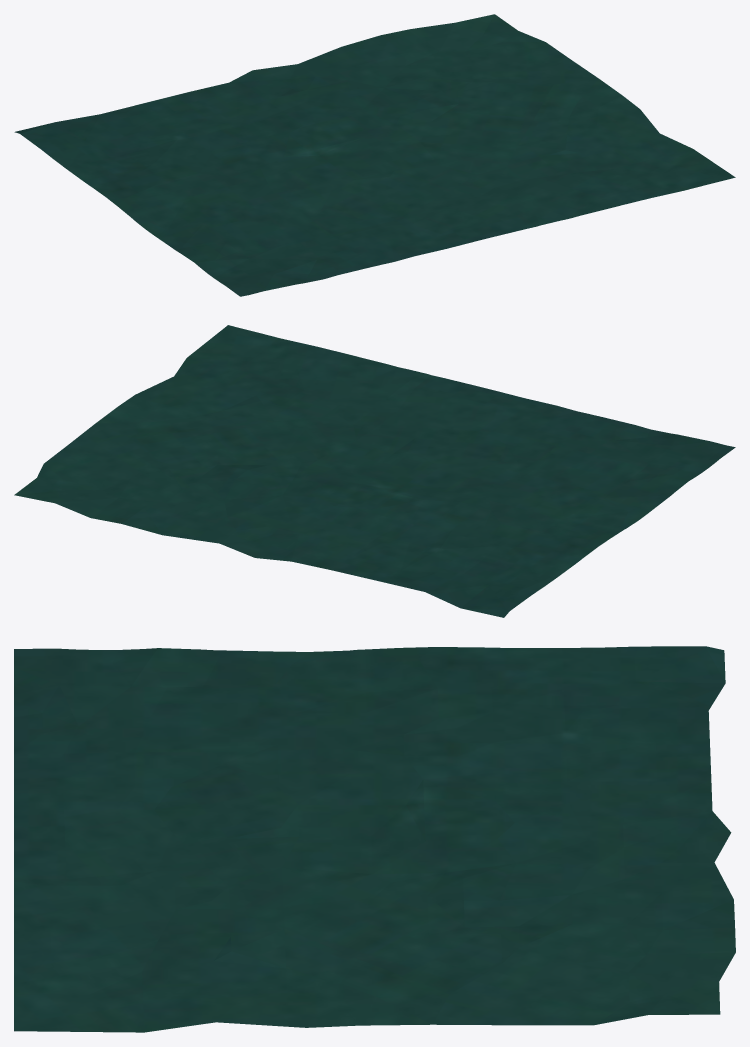
3 renders of one model, top to bottom at view 1: azimuth 30°, elevation 25°; view 2: azimuth 150°, elevation 25°; view 3: azimuth 270°, elevation 25°, orthographic. The views are drawn at different scales.
Bounding box in the file's own units: 49.9 × 0.64 × 40.1.
2 materials, 2 textured.
